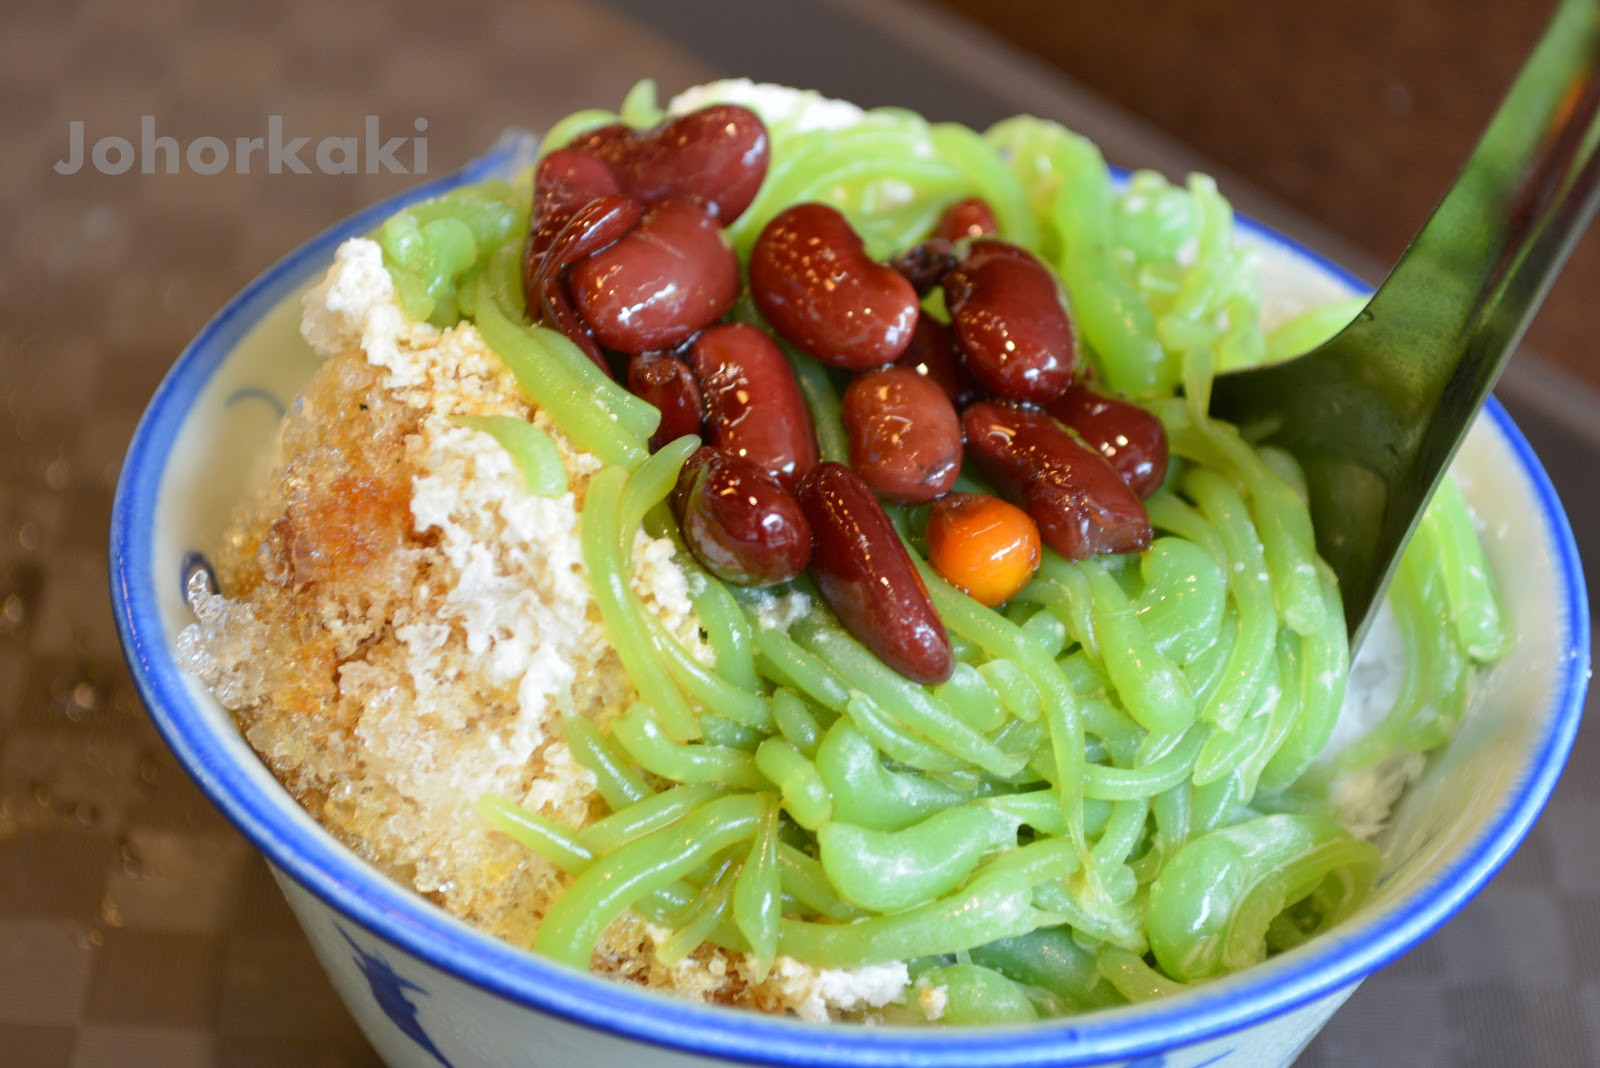Chendol: (197, 95, 1515, 1000)
